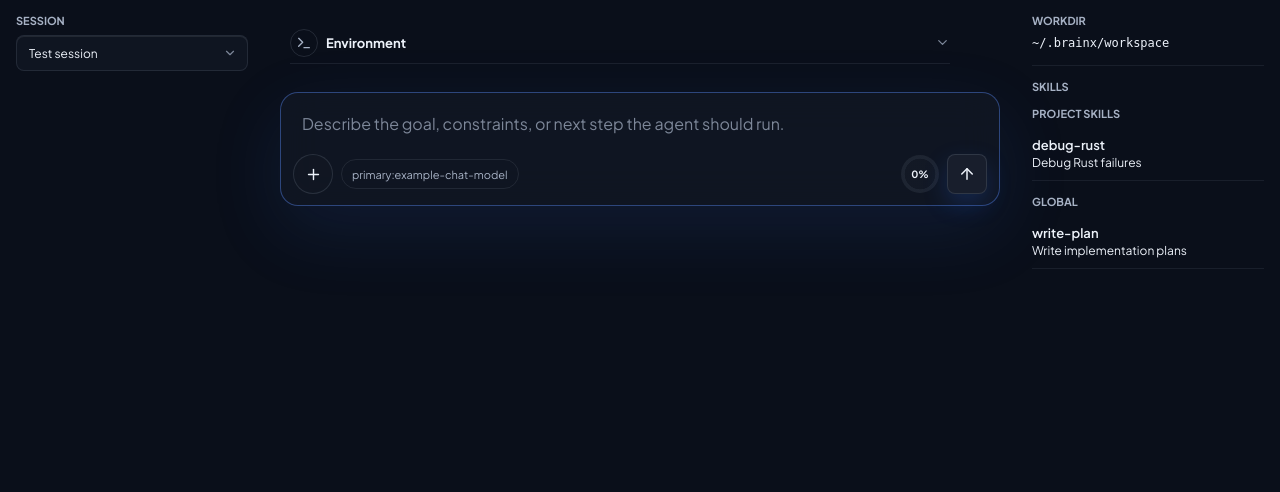
Test case: chat interaction polish › renders legacy get_environment as Environment with no placeholder summary
Click the dropdown named "Chat sessions" at (132, 53), box [16,35,248,71]
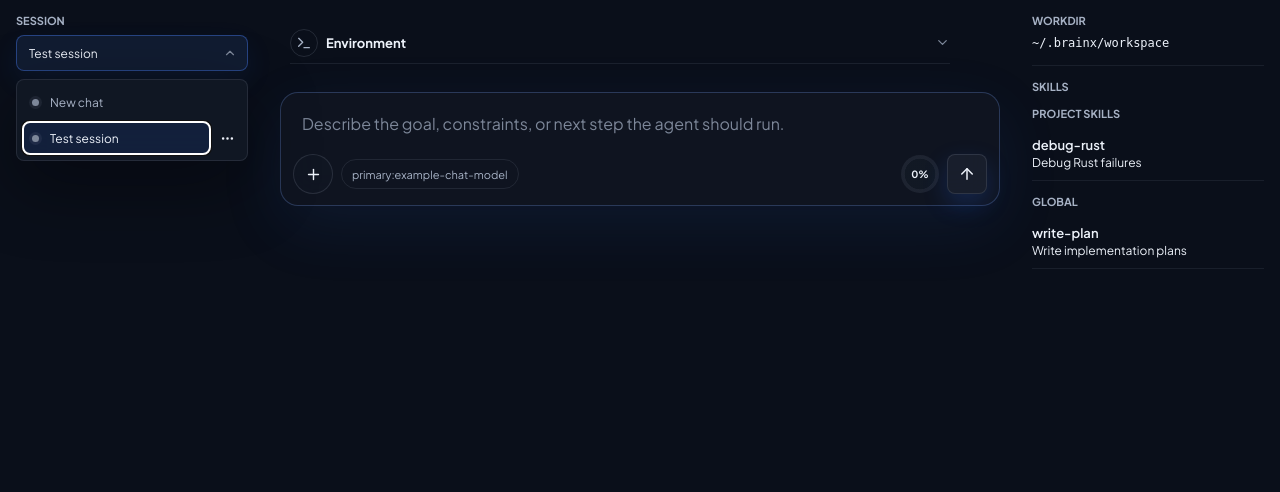
Click the option "Test session" at (116, 138), box [23,122,210,154]
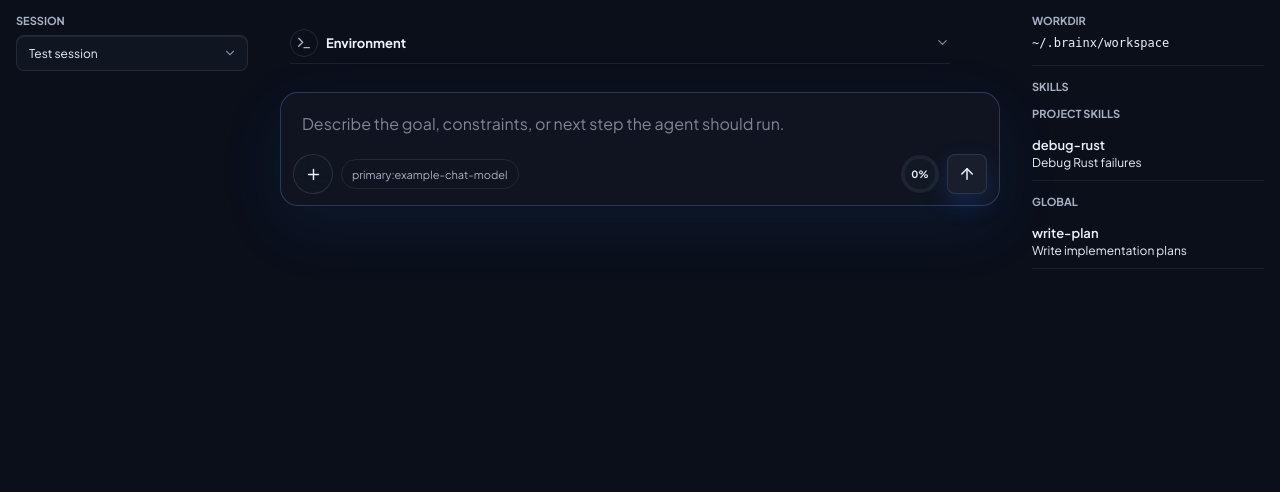
Click the button "Environment" at (366, 43), box [290,22,950,64]
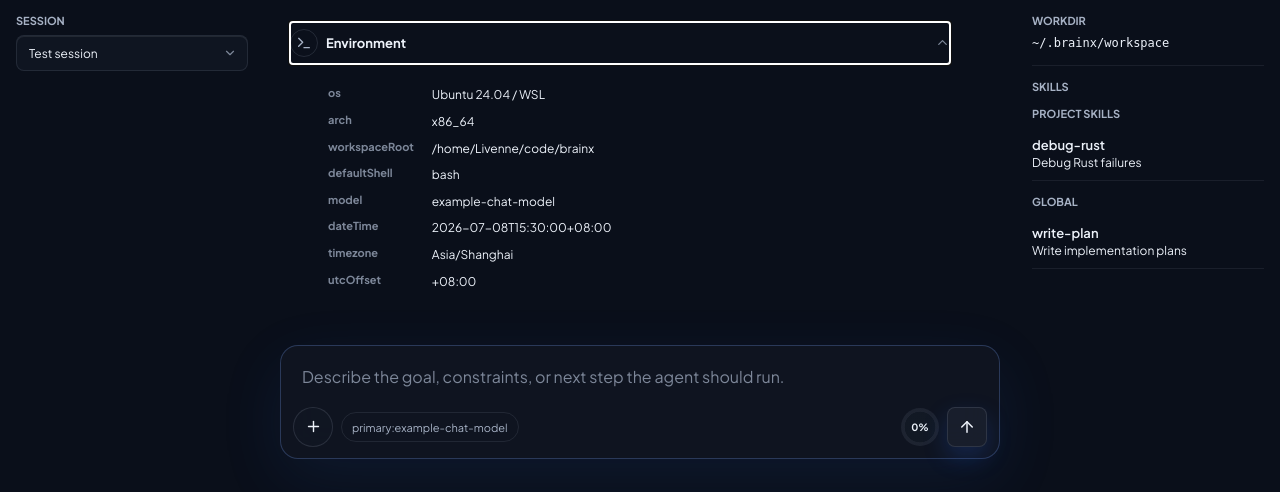
Expected: the text "Ubuntu 24.04 / WSL" is shown, [432,87,545,102]
Expected: the text "example-chat-model" is shown, [432,194,555,209]
